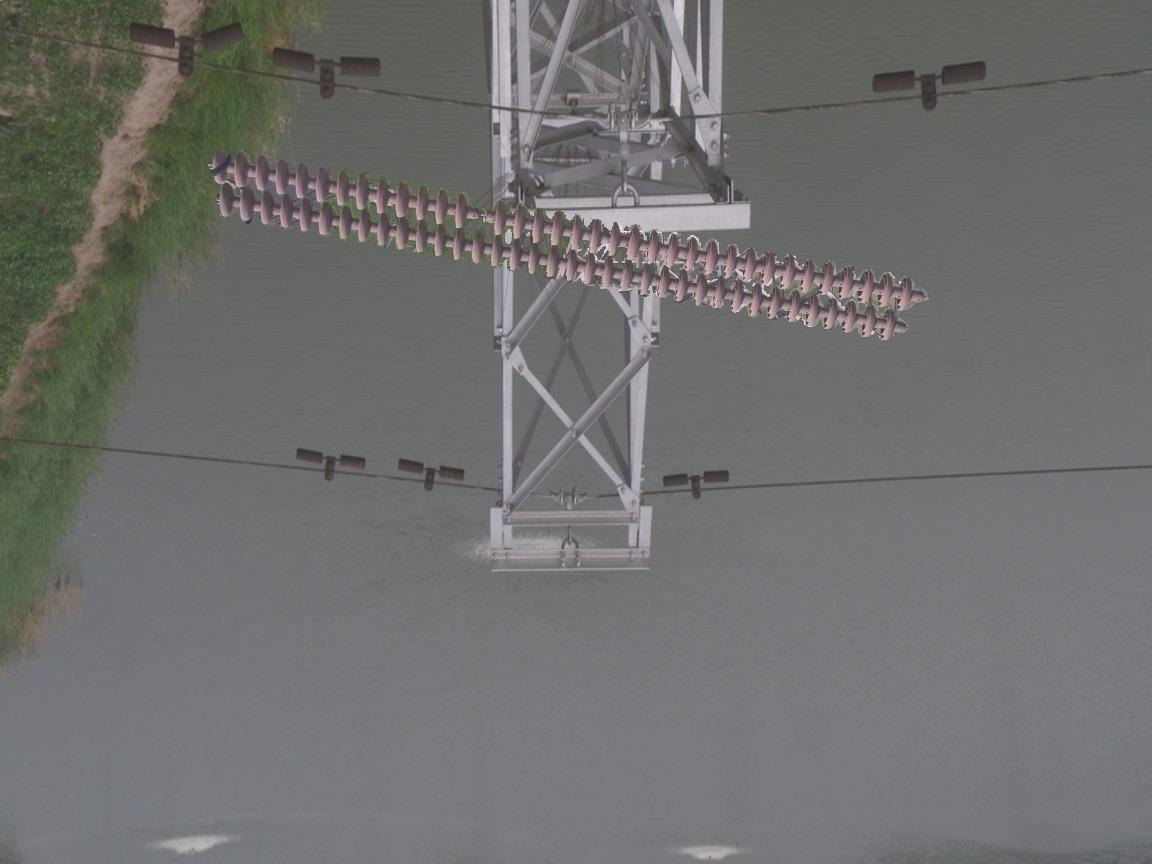insulator: (207, 144, 916, 346)
insulator_stringdrop: (451, 191, 510, 238)
